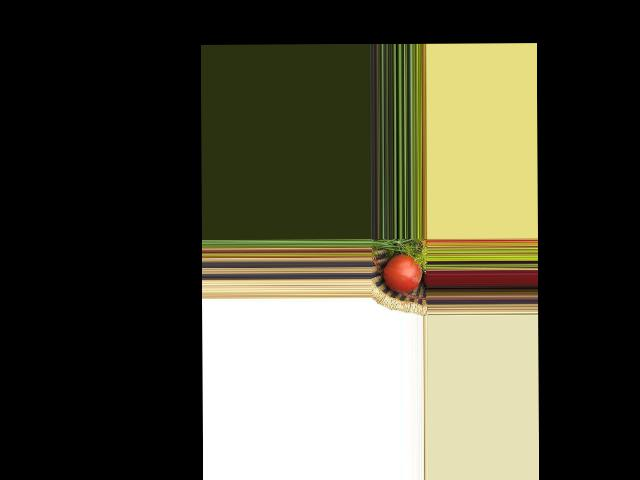tomato: (383, 253, 421, 292)
